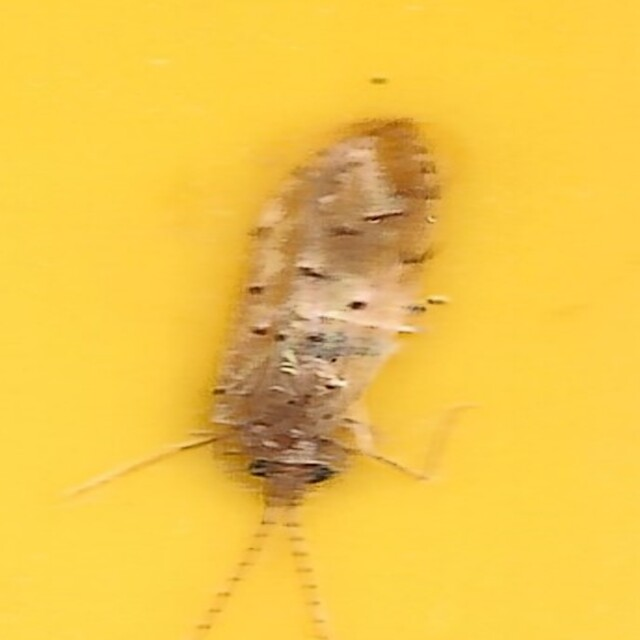Plecoptera: (186, 111, 454, 529)
